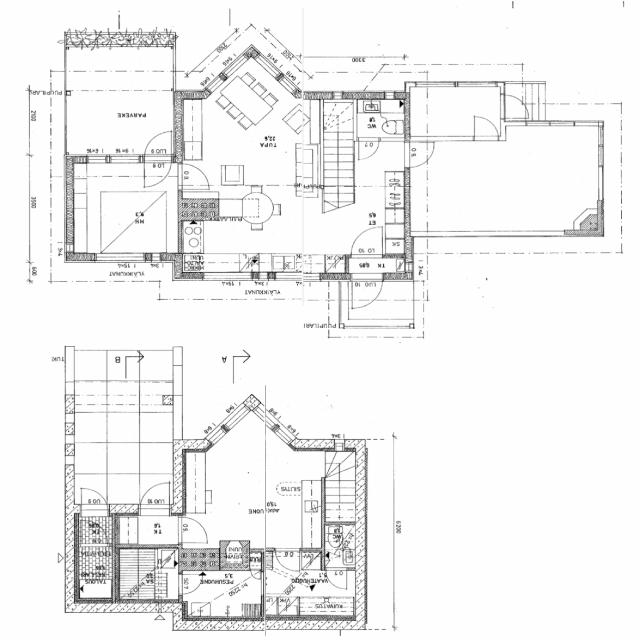door: (351, 273, 382, 310), (140, 477, 169, 516), (81, 479, 108, 516), (352, 226, 382, 258), (144, 130, 172, 164), (144, 154, 172, 188), (80, 518, 108, 547), (404, 142, 436, 167), (178, 164, 210, 189), (179, 518, 209, 542), (500, 95, 531, 118), (475, 114, 498, 141), (276, 548, 298, 572), (358, 138, 379, 160), (179, 575, 203, 594), (326, 568, 346, 590), (251, 570, 260, 580)
